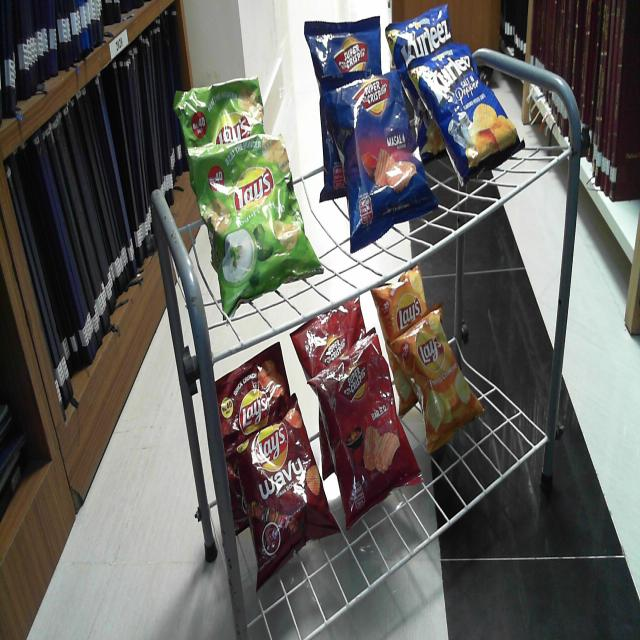Plastic: (202, 140, 306, 296), (238, 426, 326, 578), (335, 80, 417, 236), (324, 356, 399, 516), (426, 54, 496, 180), (405, 328, 479, 443), (172, 76, 264, 145), (302, 17, 382, 78), (216, 364, 288, 427), (297, 304, 364, 366), (387, 5, 451, 56), (378, 272, 424, 330)
